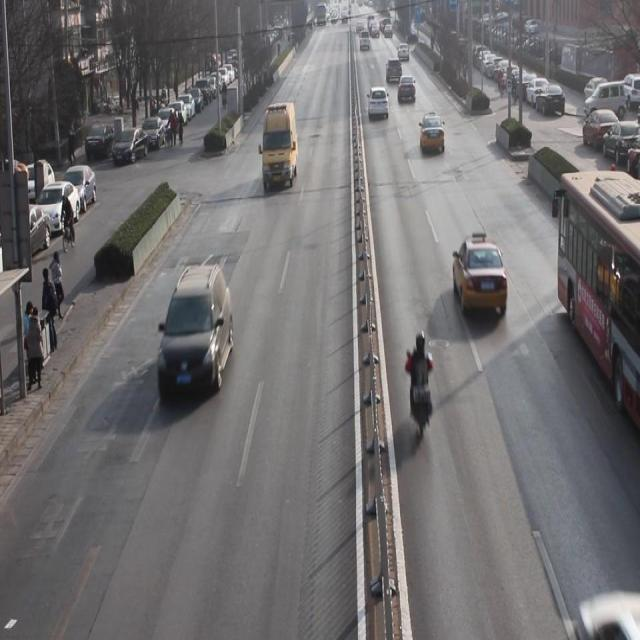car: (161, 266, 235, 407), (453, 236, 510, 323), (419, 113, 448, 160), (367, 84, 389, 122), (398, 73, 416, 105), (386, 54, 403, 86)
truck: (262, 101, 300, 196)
van: (556, 169, 640, 419)
